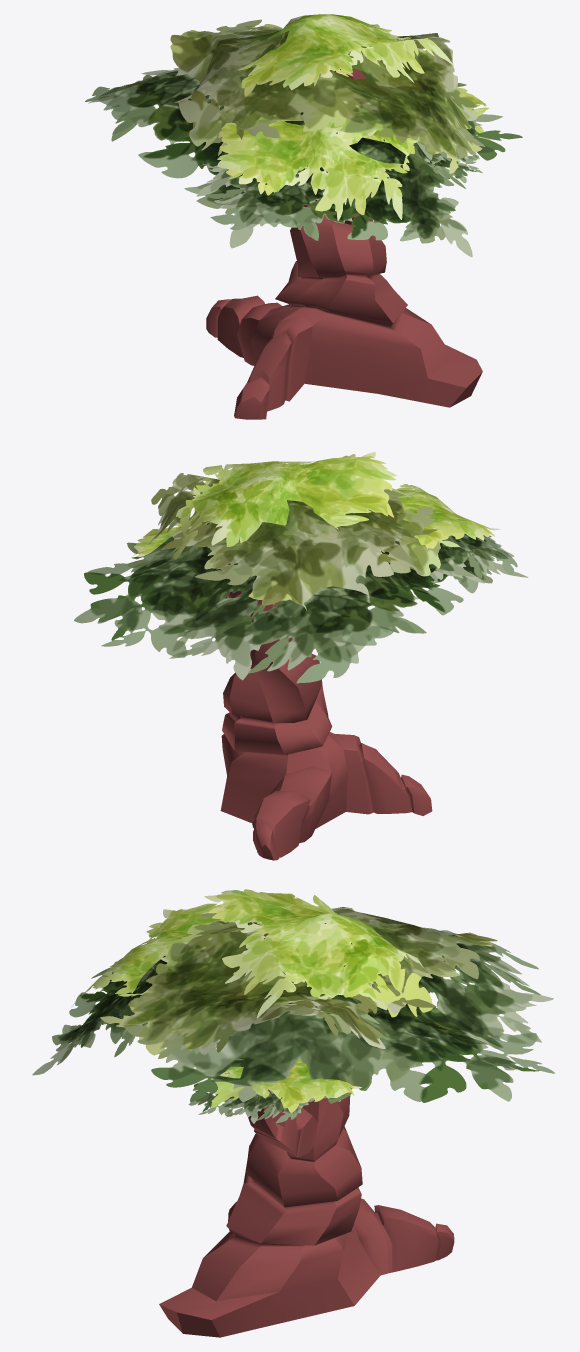
The model's file is tree_02.fbx.
3 views of the same model, one above another, from view 1: azimuth 30°, elevation 25°; view 2: azimuth 150°, elevation 25°; view 3: azimuth 270°, elevation 25° (orthographic). The views are drawn at different scales.
Visible parts, largest first — view 1: pCylinder1, pPlane5, pPlane3, pPlane2, pPlane1, pPlane4, pPlane6; view 2: pPlane1, pCylinder1, pPlane5, pPlane4, pPlane2, pPlane3, pPlane7; view 3: pCylinder1, pPlane1, pPlane5, pPlane4, pPlane3, pPlane2, pPlane7, pPlane6.
Boxes of the visible parts, box(x1,y1,x2,y2) form: pCylinder1: box(206, 69, 482, 419); pPlane5: box(170, 19, 485, 173); pPlane3: box(196, 132, 472, 257); pPlane2: box(217, 110, 417, 220); pPlane1: box(85, 68, 522, 248); pPlane4: box(234, 14, 453, 96); pPlane6: box(424, 126, 482, 183); pPlane1: box(74, 518, 528, 683); pCylinder1: box(220, 591, 432, 860); pPlane5: box(148, 473, 459, 610); pPlane4: box(172, 452, 396, 559); pPlane2: box(389, 484, 500, 548); pPlane3: box(430, 533, 517, 584); pPlane7: box(133, 522, 181, 556); pCylinder1: box(159, 934, 454, 1337); pPlane1: box(144, 927, 554, 1103); pPlane5: box(100, 907, 497, 1058); pPlane4: box(204, 889, 433, 1018); pPlane3: box(32, 955, 243, 1075); pPlane2: box(72, 903, 225, 1006); pPlane7: box(206, 1058, 361, 1113); pPlane6: box(188, 1081, 326, 1123).
Bounding box in the file's own units: 13.68 × 12.2 × 16.34.
